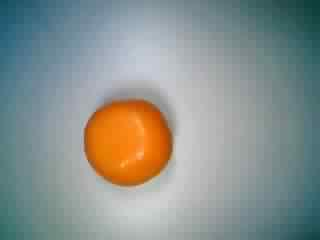orange: (77, 93, 178, 190)
